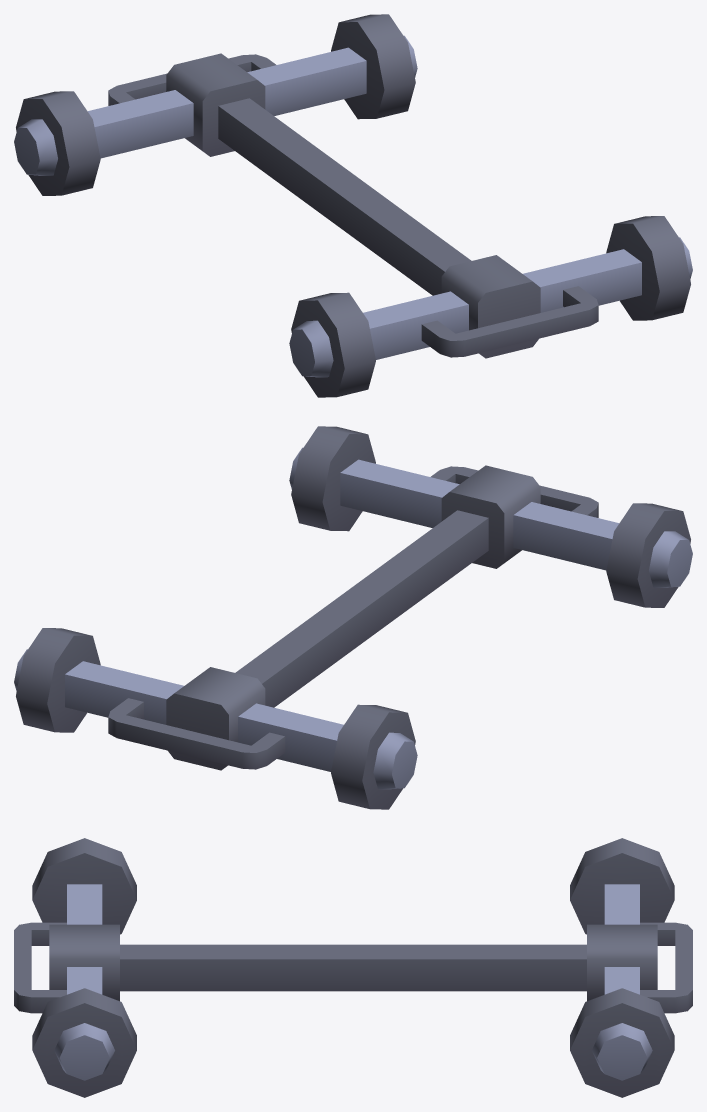
The model's file is debris-drivetrain.glb.
The picture shows the model from 3 angles, top to bottom: view 1: azimuth 30°, elevation 25°; view 2: azimuth 150°, elevation 25°; view 3: azimuth 270°, elevation 25°; orthographic projection. The views are drawn at different scales.
Parts seen in each view (by area): view 1: debris-drivetrain; view 2: debris-drivetrain; view 3: debris-drivetrain.
Part boxes in pixels (left/top/right/bottom): debris-drivetrain: left=14, top=14, right=692, bottom=397; debris-drivetrain: left=14, top=426, right=692, bottom=809; debris-drivetrain: left=14, top=838, right=692, bottom=1097.
Size of the model in its own units: 1.2 by 0.296 by 1.92.
